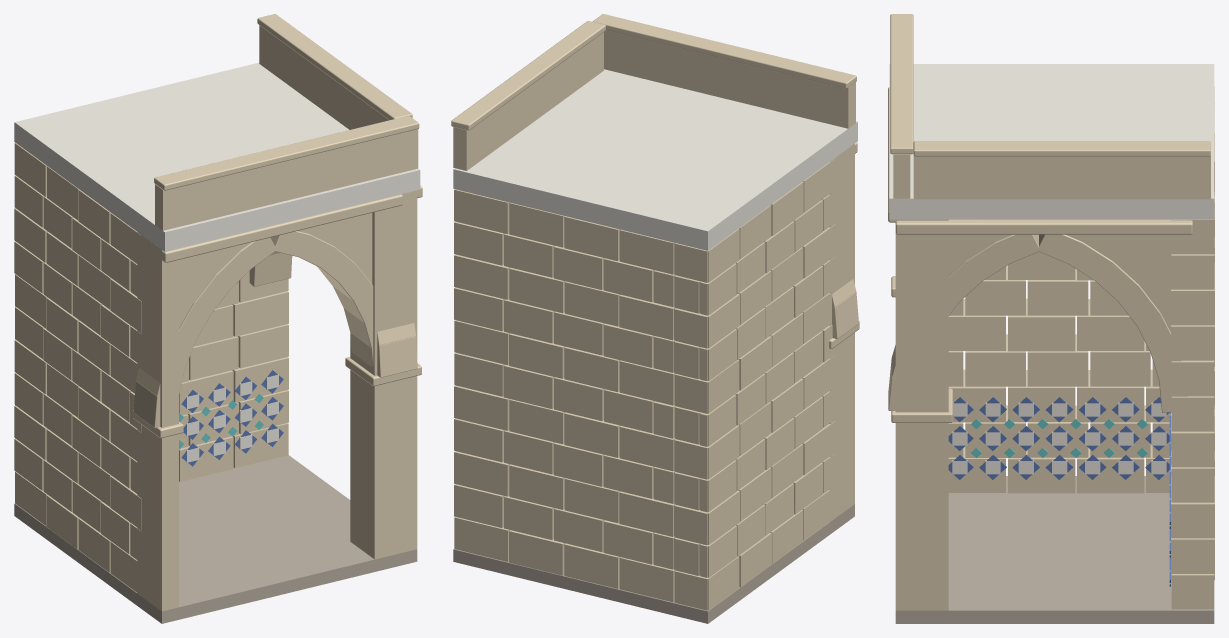
File: courtyard-arcade-c-66dcc32d.glb
3 renders of one model, left to right at view 1: azimuth 30°, elevation 25°; view 2: azimuth 150°, elevation 25°; view 3: azimuth 270°, elevation 25°, orthographic. The views are drawn at different scales.
Parts seen in each view (by area): view 1: courtyard-arcade-corner; view 2: courtyard-arcade-corner; view 3: courtyard-arcade-corner.
Boxes of the visible parts, x1,y1,x2,y2 form: courtyard-arcade-corner: (14, 14, 422, 623); courtyard-arcade-corner: (451, 14, 859, 623); courtyard-arcade-corner: (888, 14, 1214, 623).
Size of the model in its own units: 3.14 by 4.94 by 3.08.
